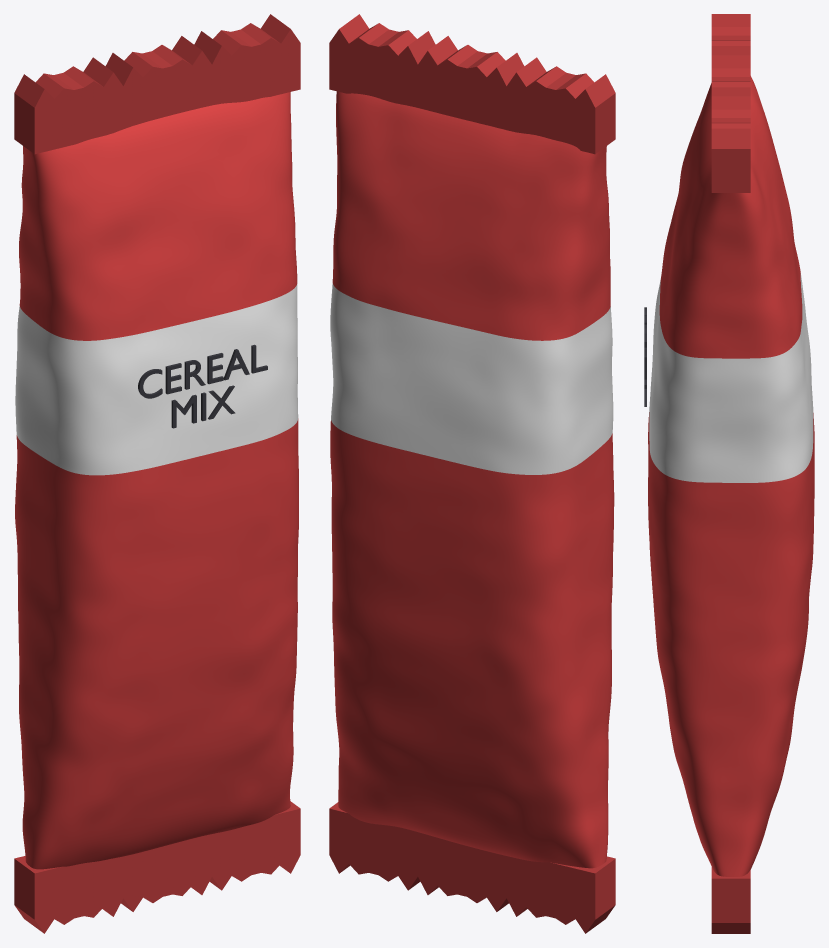
The model's file is Snacks.glb.
3 renders of one model, left to right at view 1: azimuth 30°, elevation 25°; view 2: azimuth 150°, elevation 25°; view 3: azimuth 270°, elevation 25°, orthographic. The views are drawn at different scales.
Visible parts, largest first — view 1: Snack_Bag, Snack_SealTop, Snack_SealBot, Snack_Text; view 2: Snack_Bag, Snack_SealTop, Snack_SealBot; view 3: Snack_Bag, Snack_SealTop, Snack_SealBot.
Boxes of the visible parts, x1,y1,x2,y2 form: Snack_Bag: (15,92,298,869); Snack_SealTop: (14,14,300,154); Snack_SealBot: (14,801,300,933); Snack_Text: (138,344,267,428); Snack_Bag: (330,91,614,868); Snack_SealTop: (329,14,615,154); Snack_SealBot: (329,802,615,933); Snack_Bag: (648,76,814,876); Snack_SealTop: (711,14,750,192); Snack_SealBot: (711,867,750,933).
Size of the model in its own units: 0.6 by 1.82 by 0.3496.
